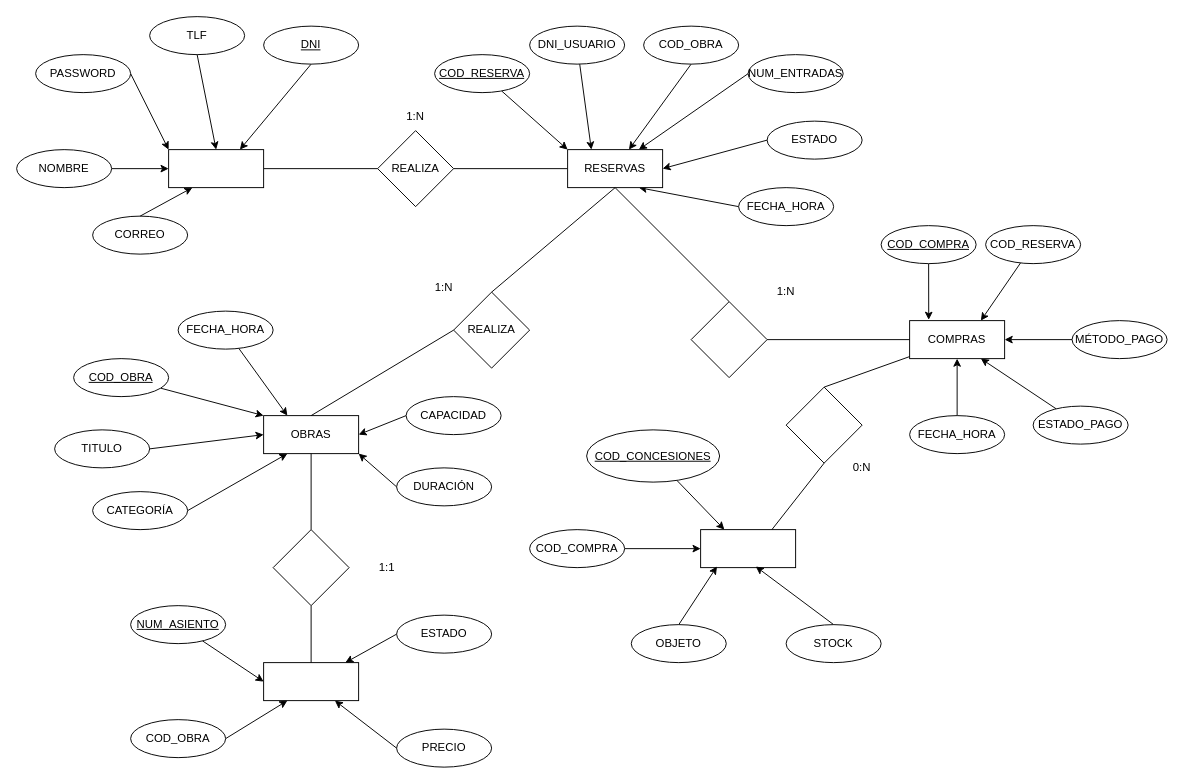
Image size: 1184x784. Some labels were removed from this diagram. Each missing label, with the centre of its shape:
ASIENTOS: point 311,681
CONCESIONES: point 748,548
RESULTAR: point 728,339
TIENEN: point 310,567
USUARIO: point 216,168
VENDER: point 823,424
